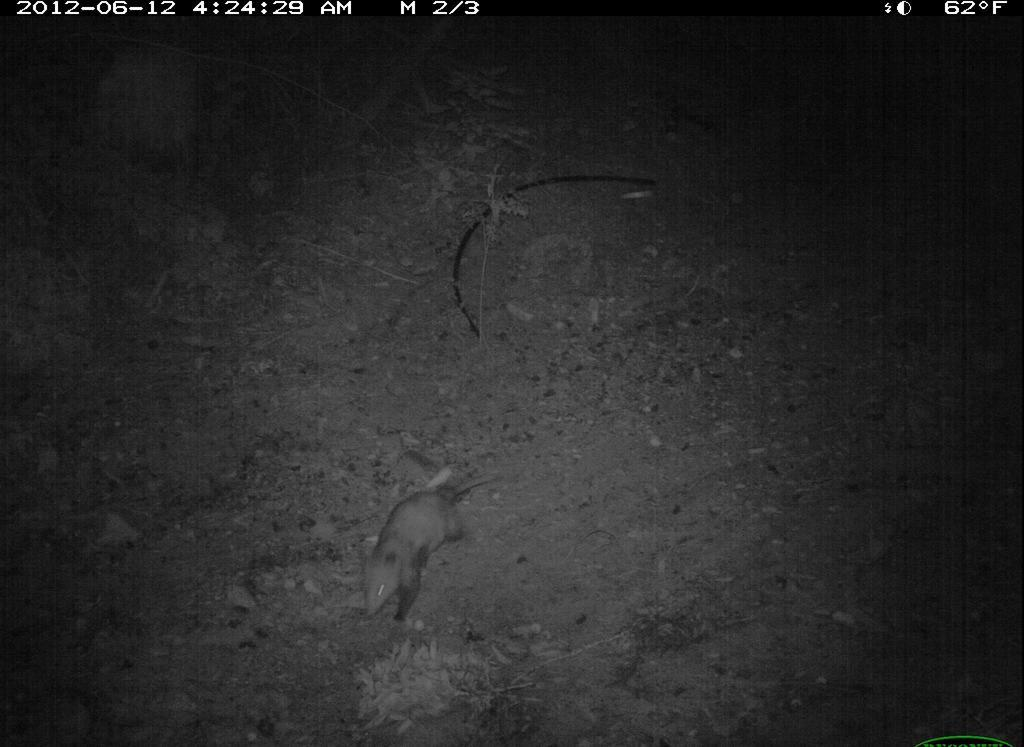opossum: (346, 455, 509, 637)
